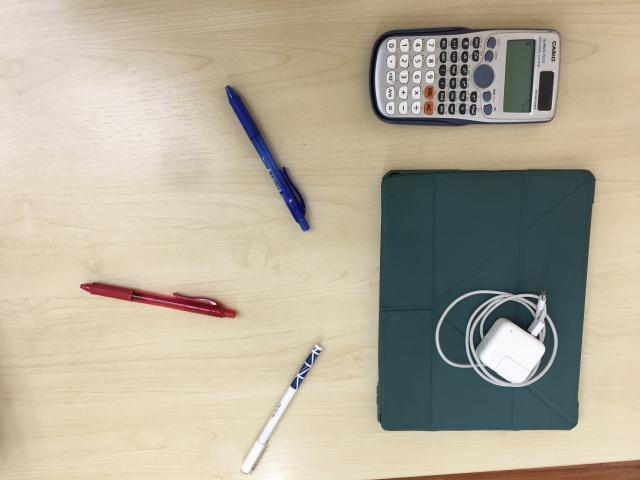Pen: (225, 87, 312, 232), (241, 343, 326, 475), (79, 283, 239, 320)
wire: (466, 294, 558, 390)
